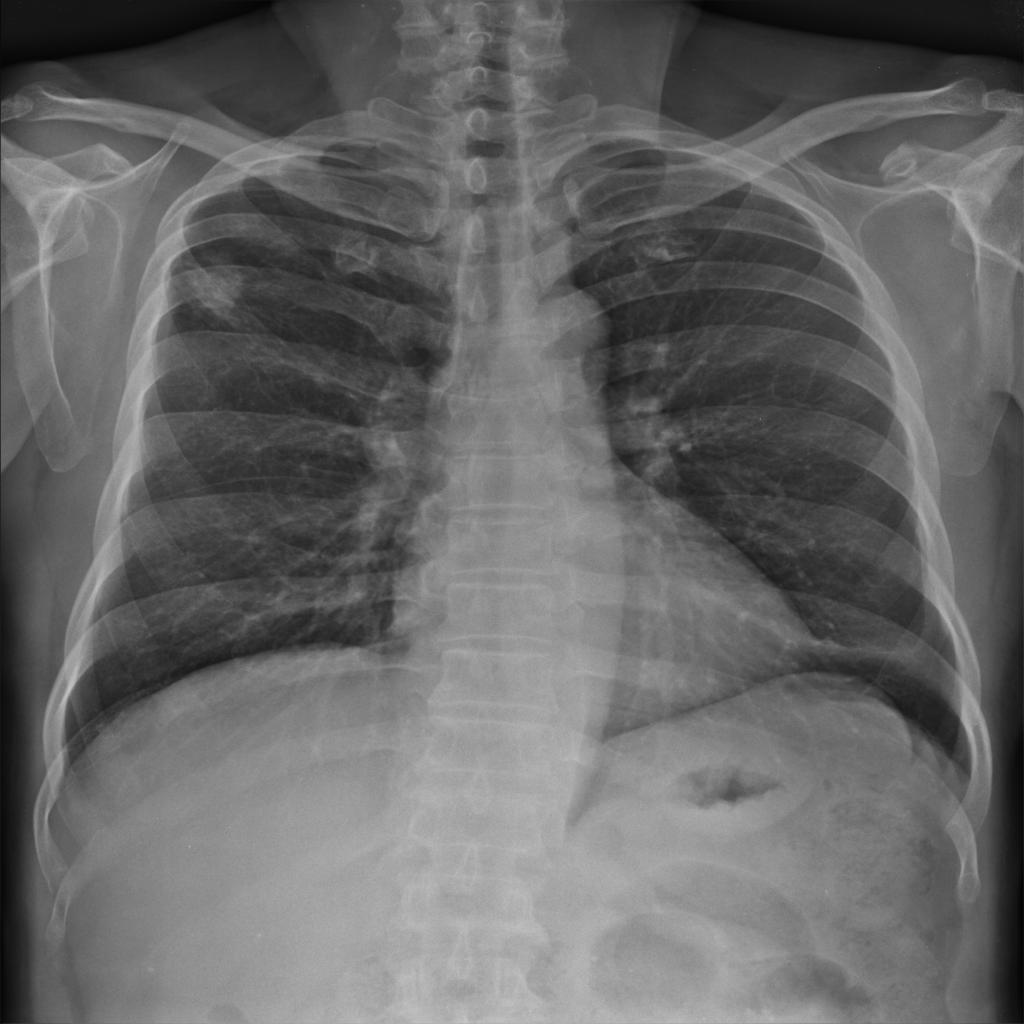Nodule: (184, 262, 247, 320)
